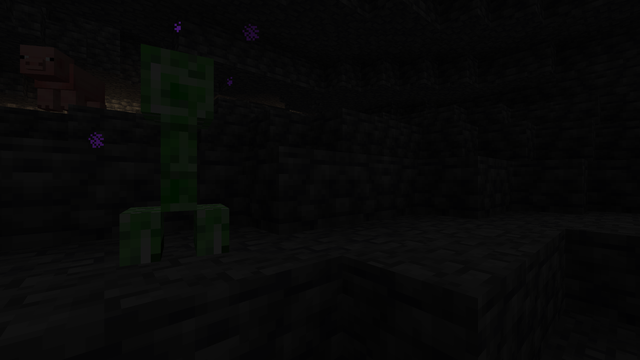cochons: (37, 57, 100, 114)
creepers: (133, 26, 225, 266)
